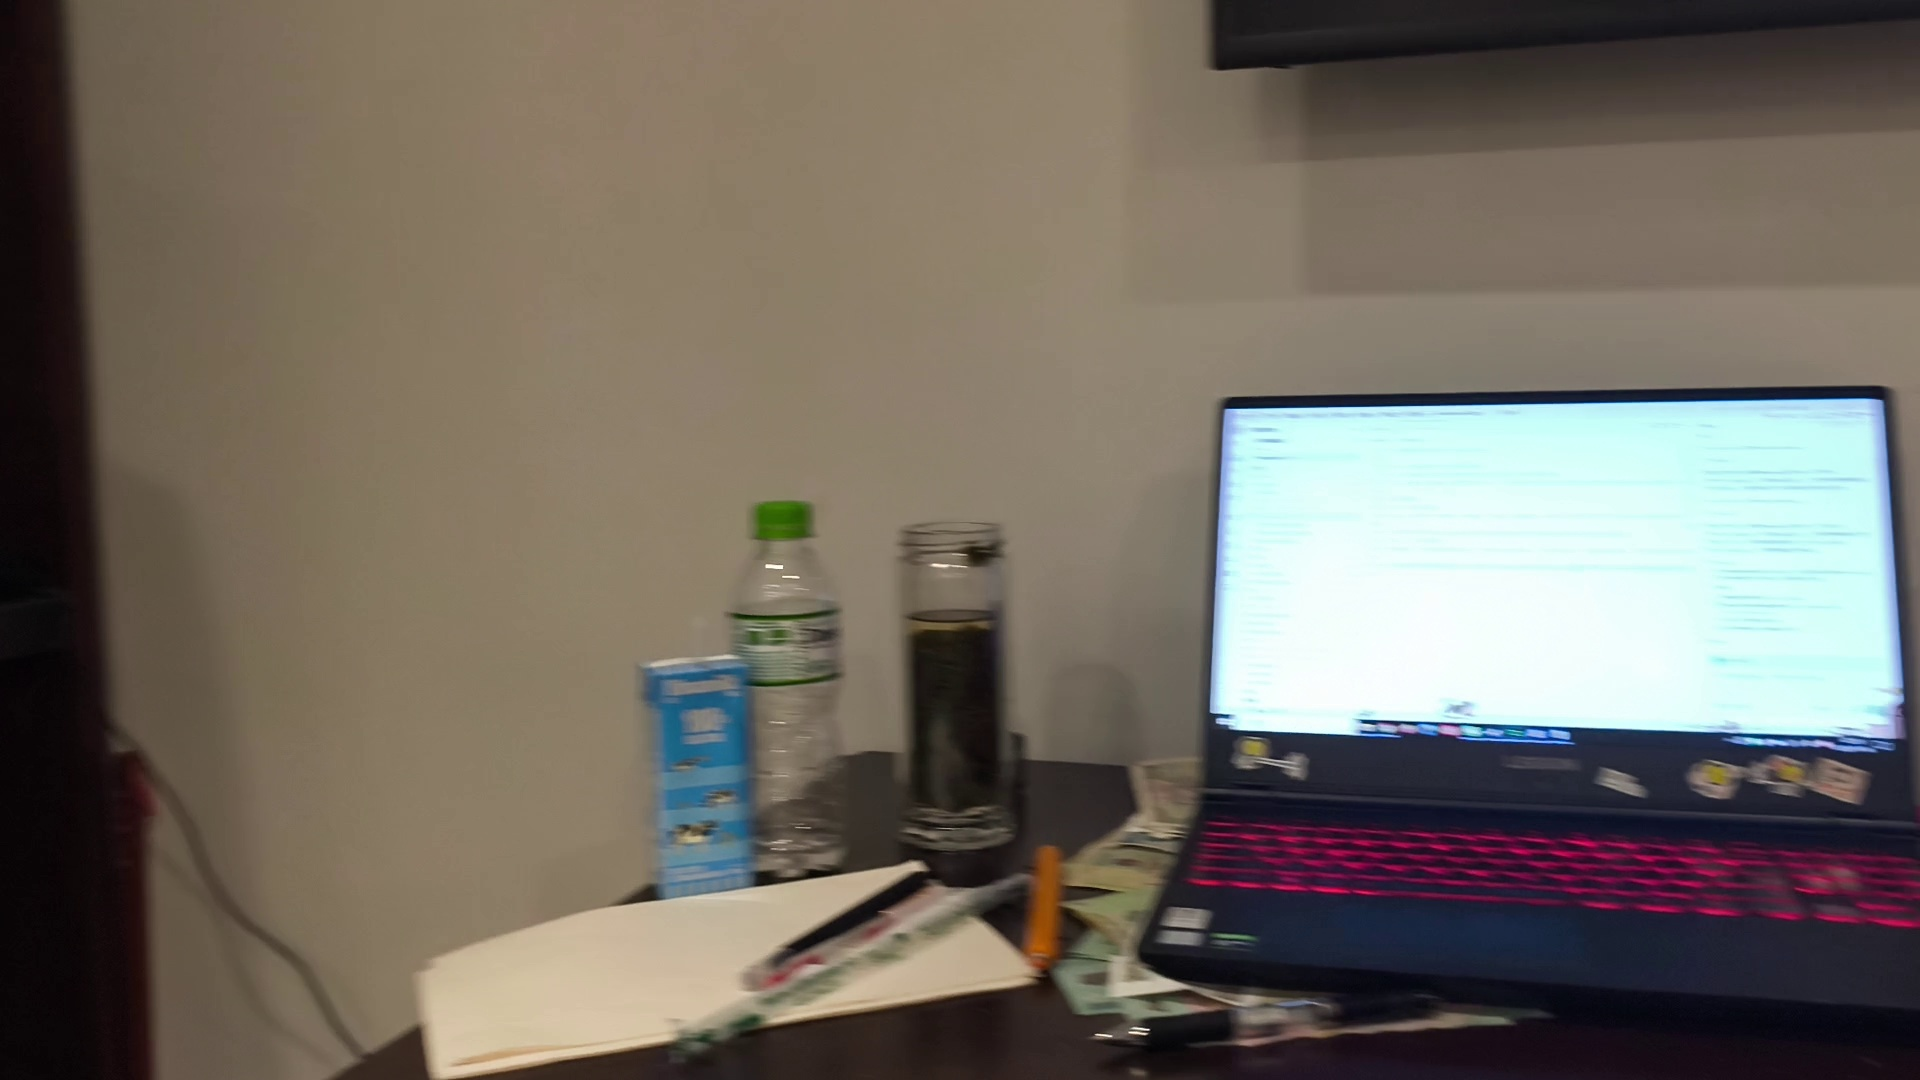bolibei: (883, 513, 1014, 860)
bottle: (745, 502, 862, 877)
computer: (1216, 381, 1909, 1008)
milk: (646, 651, 753, 881)
pen: (727, 839, 979, 1004), (1093, 961, 1457, 1065)
